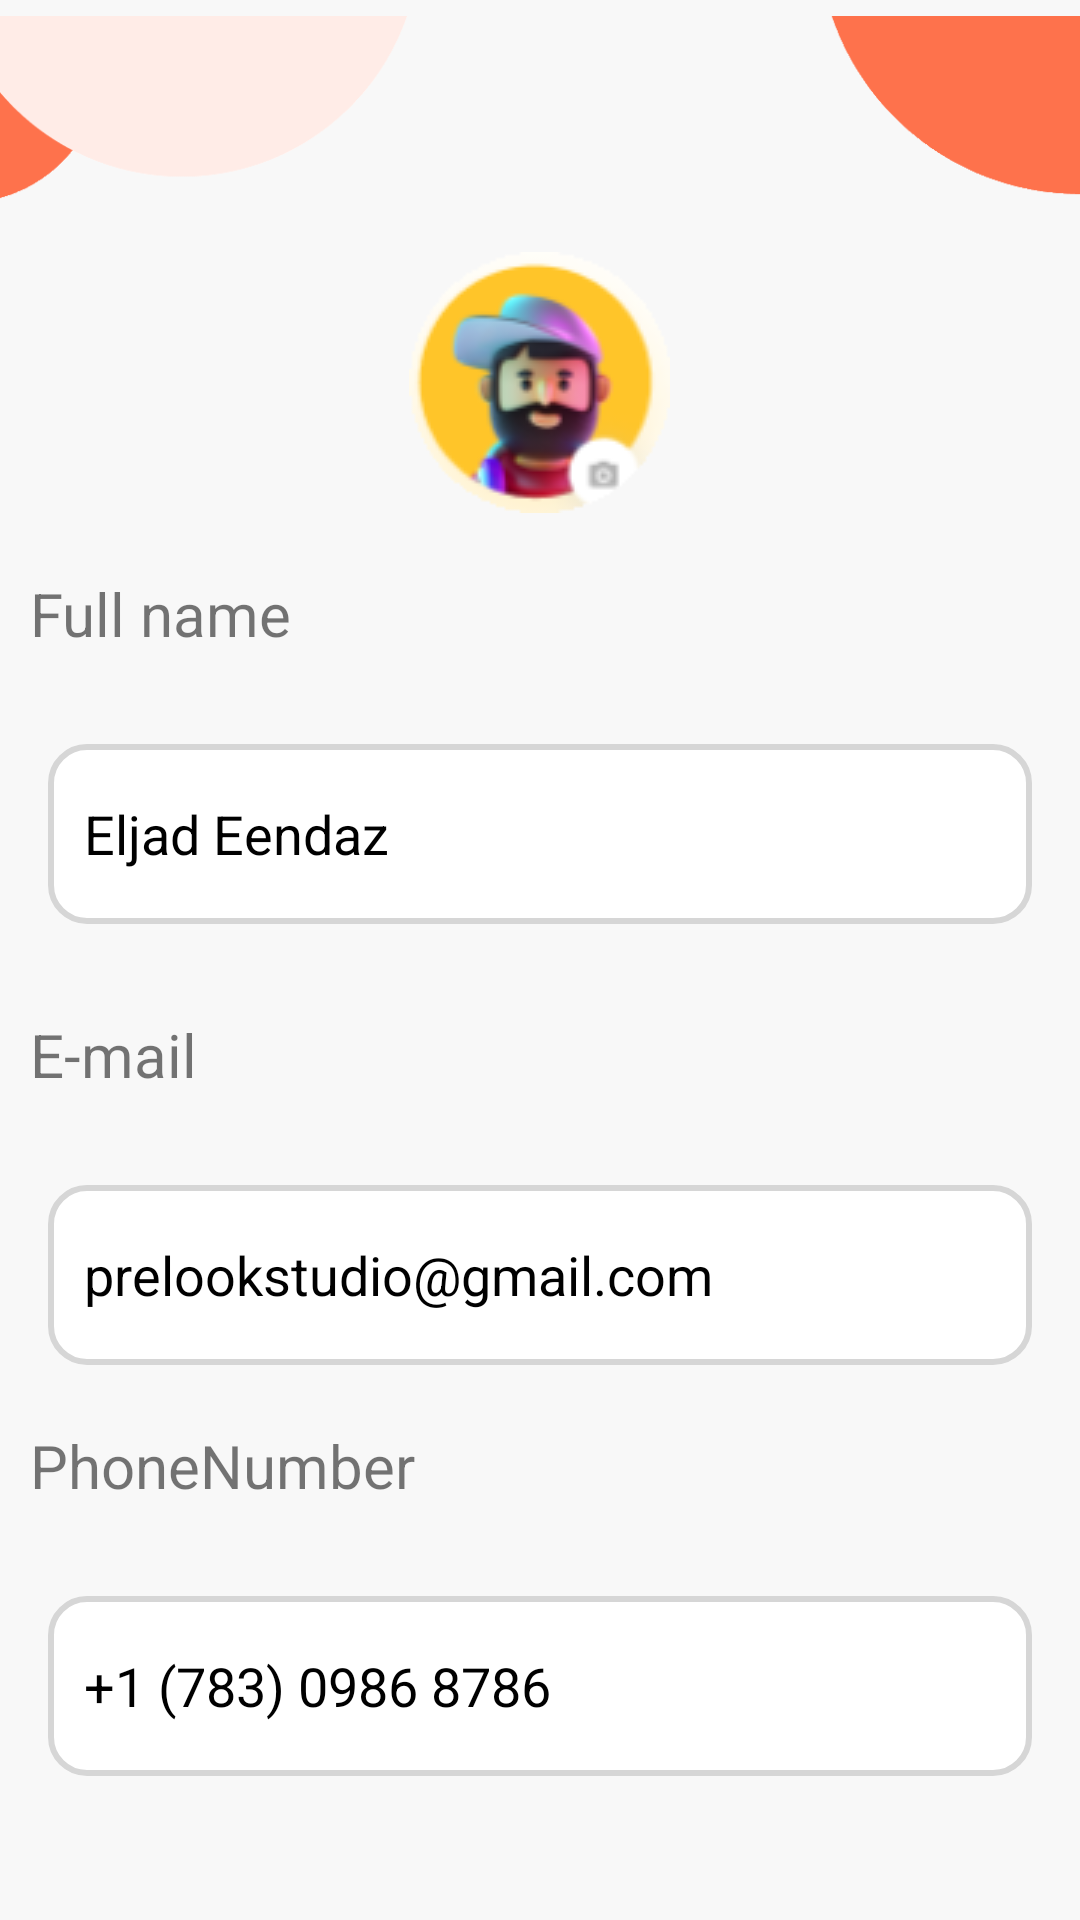

Locate icon controls on the screen. Image size 1080*1920, boxes as (x1, y1, x2, y2).
prof: (415, 263, 655, 513)
